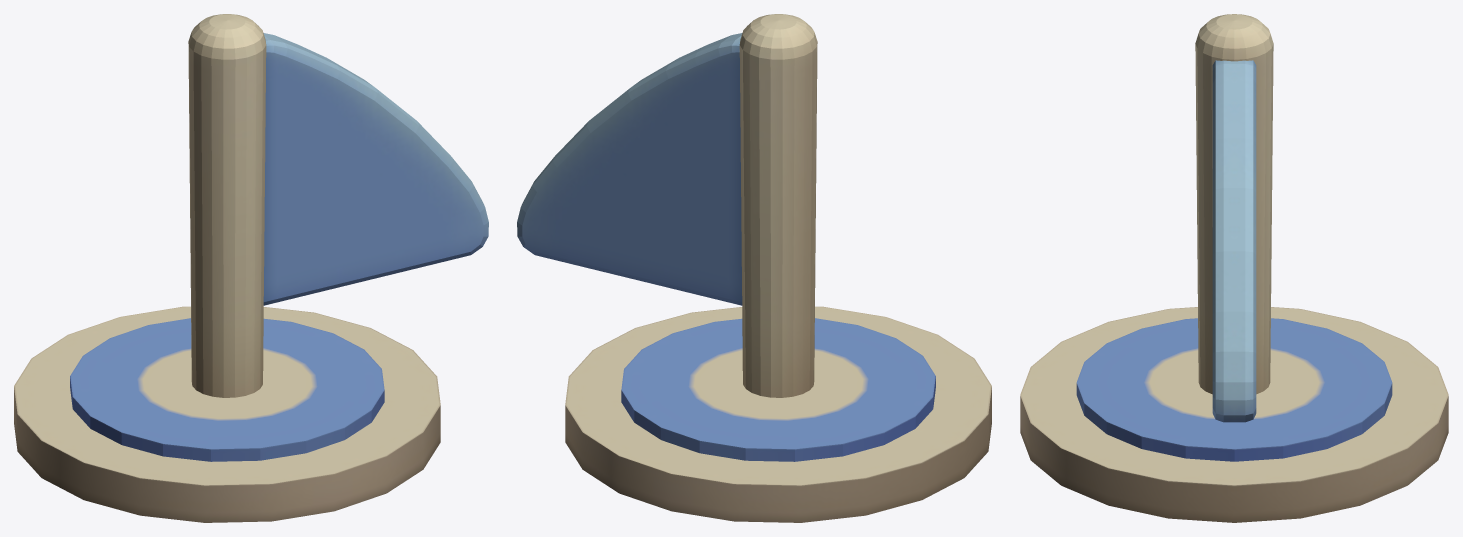
File: 宝宝巴士-主框架-推送地图-游园会-路标 1.FBX
3 views of the same model, side by side, from view 1: azimuth 30°, elevation 25°; view 2: azimuth 150°, elevation 25°; view 3: azimuth 270°, elevation 25° (orthographic).
Parts seen in each view (by area): view 1: 宝宝巴士-主框架-推送地图-游园会-路标; view 2: 宝宝巴士-主框架-推送地图-游园会-路标; view 3: 宝宝巴士-主框架-推送地图-游园会-路标.
Part boxes in pixels (x1,y1,x2,y2): 宝宝巴士-主框架-推送地图-游园会-路标: (14, 14, 488, 522); 宝宝巴士-主框架-推送地图-游园会-路标: (517, 14, 991, 522); 宝宝巴士-主框架-推送地图-游园会-路标: (1020, 14, 1448, 522).
Size of the model in its own units: 97.43 by 87.18 by 82.23.
